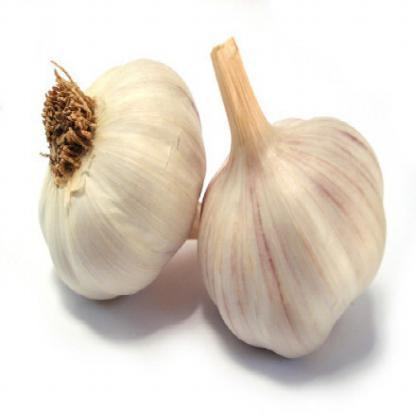garlic: (199, 42, 393, 346), (47, 52, 202, 316)
